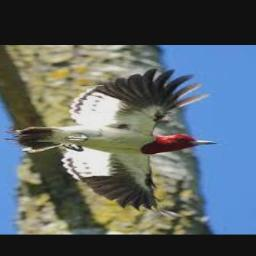Woodpecker: (6, 69, 217, 216)
